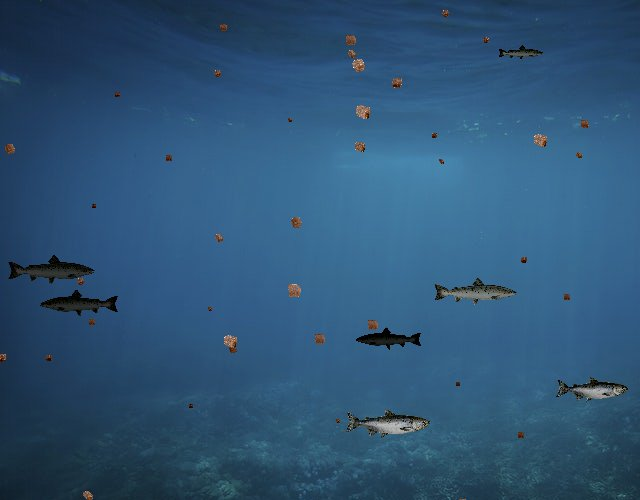Fish: (6, 253, 96, 286), (432, 276, 518, 307), (344, 408, 430, 439), (40, 289, 121, 318), (556, 377, 629, 403), (355, 327, 423, 351), (497, 44, 544, 61)
Pellet: (575, 115, 594, 134), (342, 45, 361, 64), (76, 485, 98, 500), (516, 253, 530, 267), (428, 129, 441, 142), (111, 88, 123, 100), (204, 304, 214, 314)
